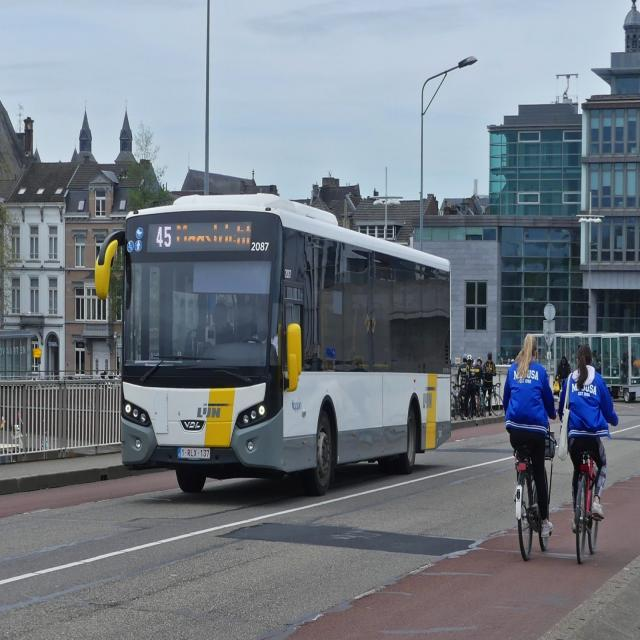bus-number: (153, 223, 175, 250)
